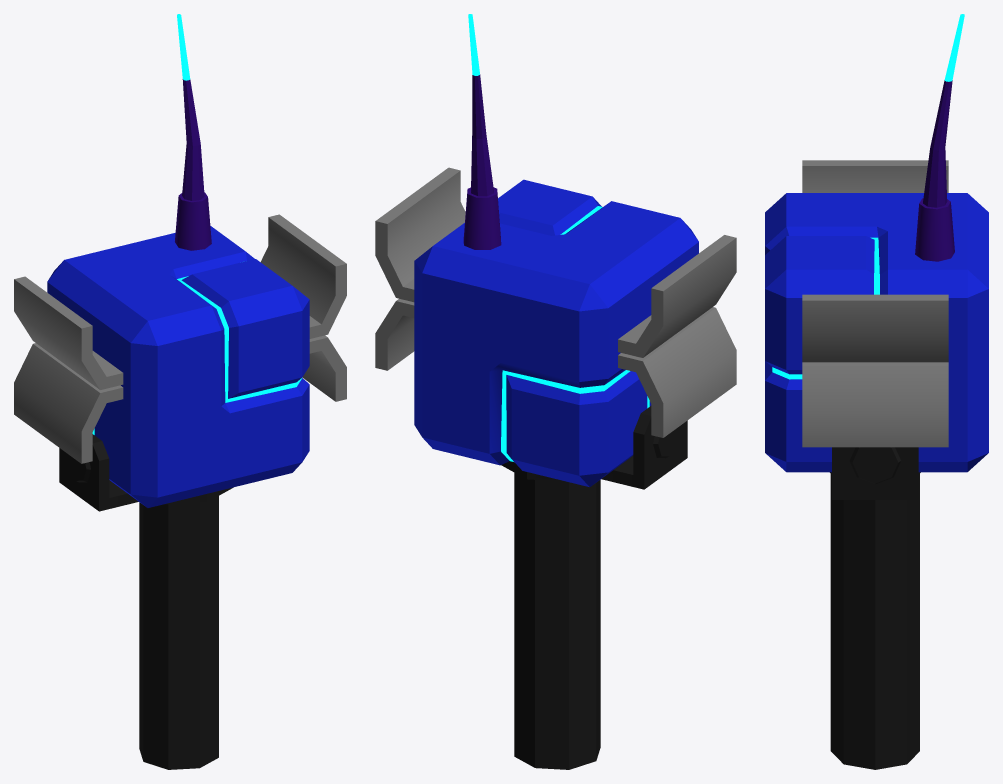
The picture shows the model from 3 angles, left to right: view 1: azimuth 30°, elevation 25°; view 2: azimuth 150°, elevation 25°; view 3: azimuth 270°, elevation 25°; orthographic projection. The views are drawn at different scales.
Visible parts, largest first — view 1: Tower2; view 2: Tower2; view 3: Tower2.
Part boxes in pixels (x1=…): Tower2: x1=14, y1=14, x2=346, y2=769; Tower2: x1=375, y1=14, x2=736, y2=769; Tower2: x1=765, y1=14, x2=988, y2=769.
Bounding box in the file's own units: 59.34 × 149 × 40.
